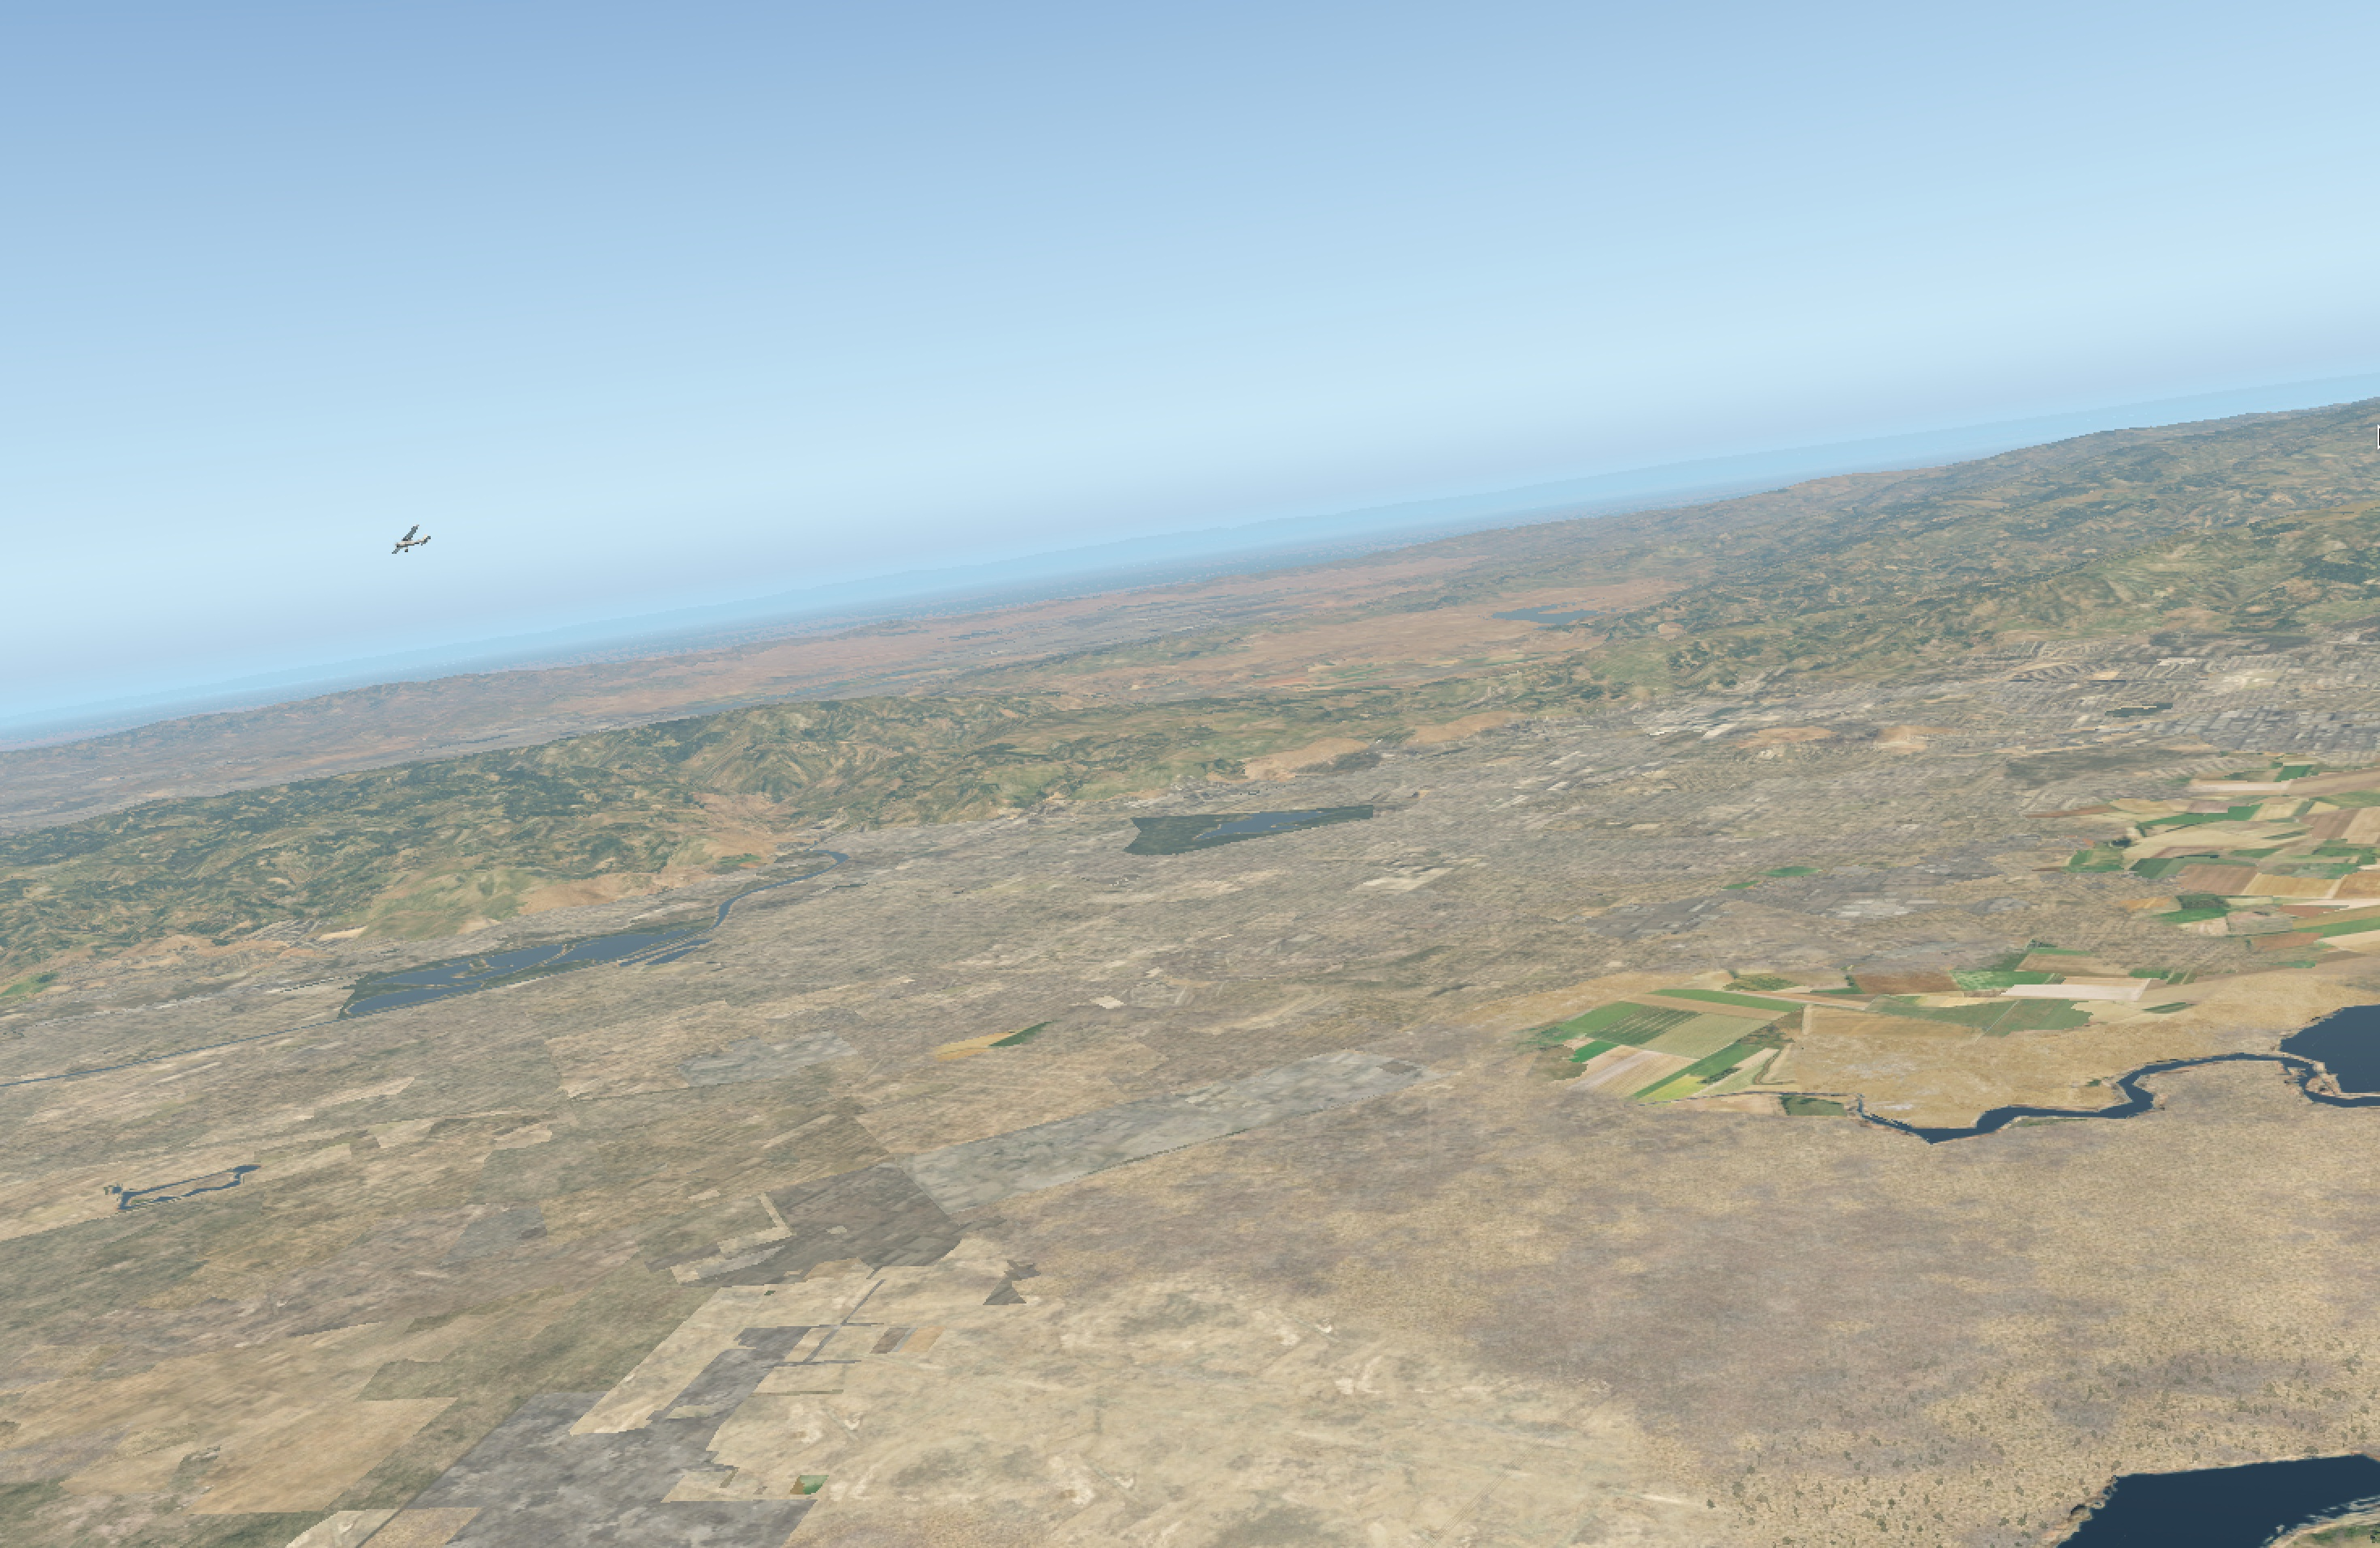aircraft: (387, 536, 423, 550)
